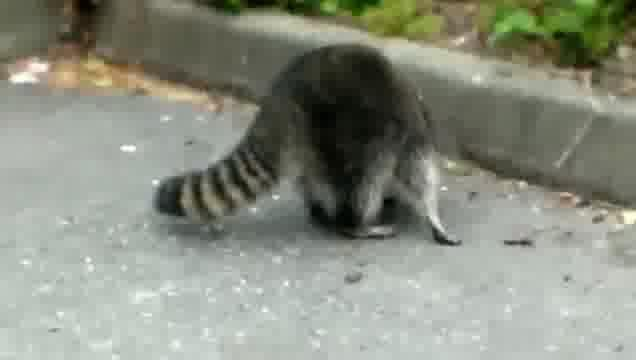raccoon: (148, 41, 463, 253)
